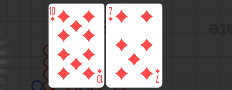10D: (97, 68, 104, 85)
7D: (155, 68, 161, 84)
